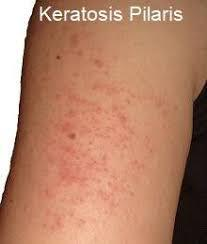Goosebumps: (0, 0, 205, 243)
